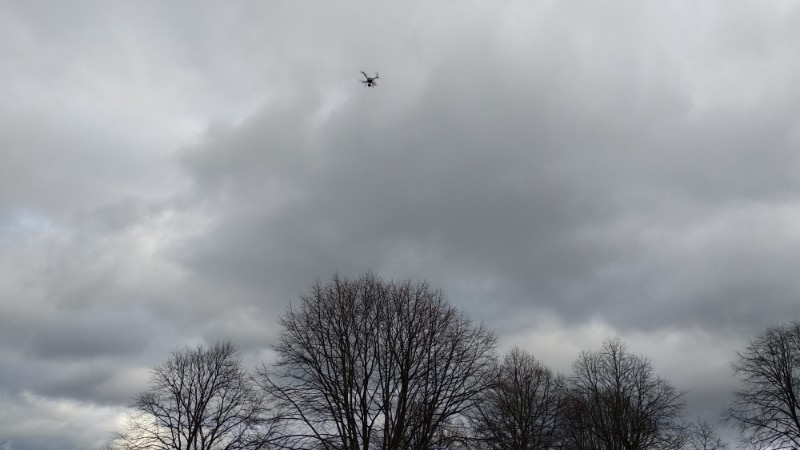drone: (360, 71, 380, 87)
